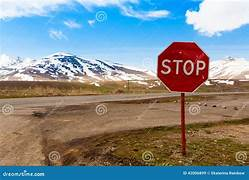stop: (156, 41, 210, 93)
